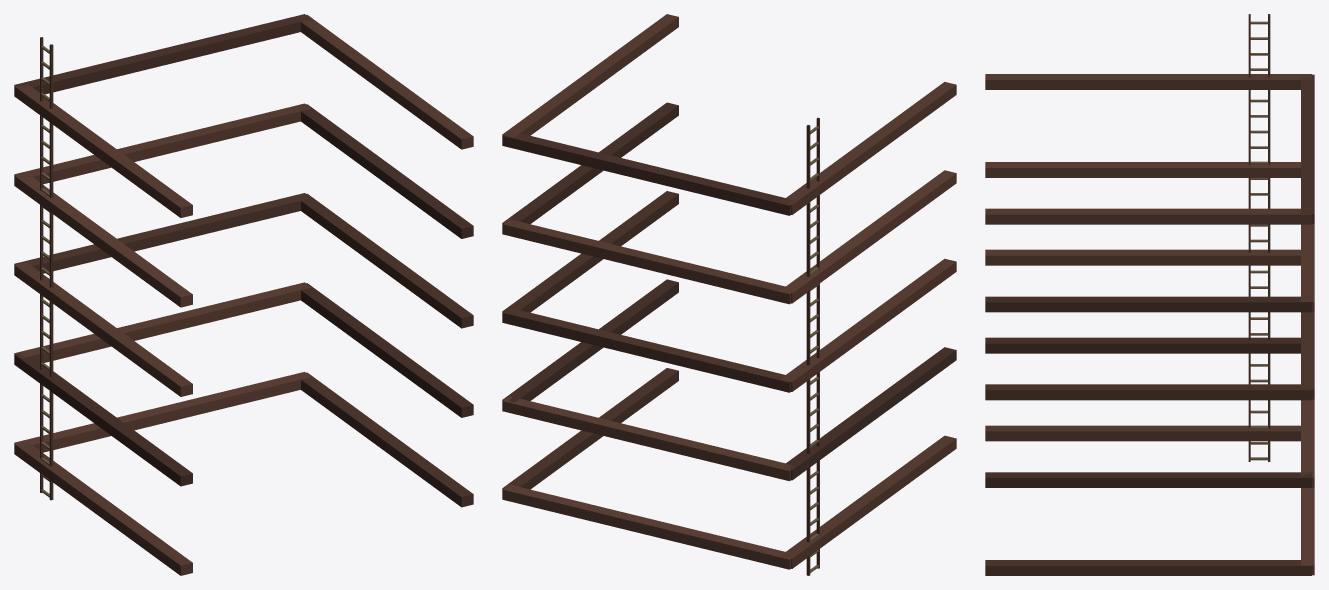
File: shaft_drop_detail1.glb
3 views of the same model, side by side, from view 1: azimuth 30°, elevation 25°; view 2: azimuth 150°, elevation 25°; view 3: azimuth 270°, elevation 25° (orthographic).
Visible parts, largest first — view 1: shaft_drop_detail1; view 2: shaft_drop_detail1; view 3: shaft_drop_detail1.
Boxes of the visible parts, x1,y1,x2,y2 form: shaft_drop_detail1: (14,14,473,575); shaft_drop_detail1: (502,14,956,575); shaft_drop_detail1: (985,14,1314,575).
Bounding box in the file's own units: 12 × 17.8 × 11.9.
